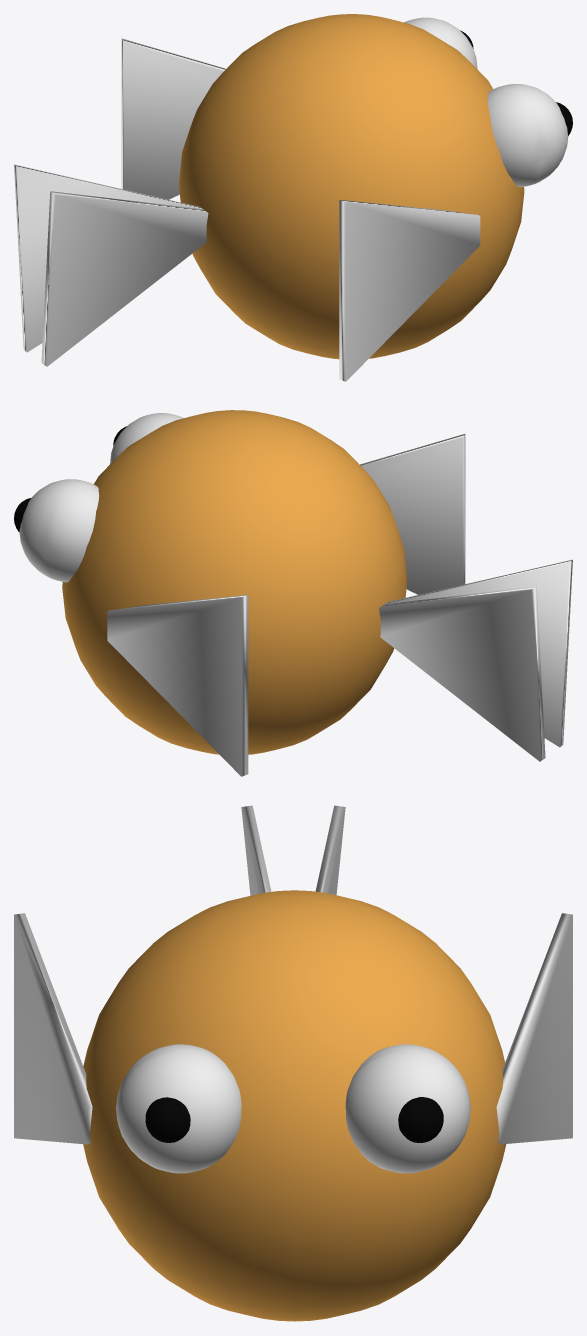
File: blowfish.glb
3 views of the same model, one above another, from view 1: azimuth 30°, elevation 25°; view 2: azimuth 150°, elevation 25°; view 3: azimuth 270°, elevation 25° (orthographic). The views are drawn at different scales.
Parts seen in each view (by area): view 1: Sphere, Cube; view 2: Sphere, Cube; view 3: Sphere, Cube, Sphere.001.
Boxes of the visible parts, bbox=[...] form: Sphere: bbox=[179, 14, 524, 359]; Cube: bbox=[14, 17, 568, 381]; Sphere: bbox=[62, 410, 407, 754]; Cube: bbox=[19, 413, 572, 776]; Sphere: bbox=[83, 890, 506, 1321]; Cube: bbox=[14, 805, 572, 1173]; Sphere.001: bbox=[145, 1097, 443, 1142].
Size of the model in its own units: 2.83 by 1.74 by 2.25.
